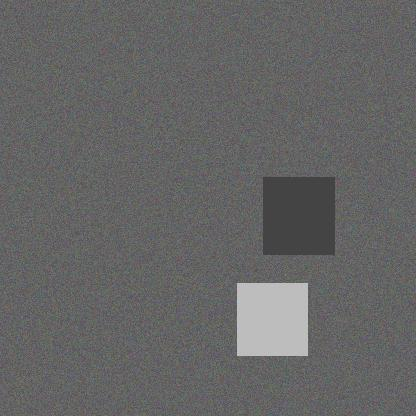empty: (260, 148, 311, 210)
occupied: (171, 143, 247, 195), (102, 239, 156, 292), (274, 263, 323, 308)
